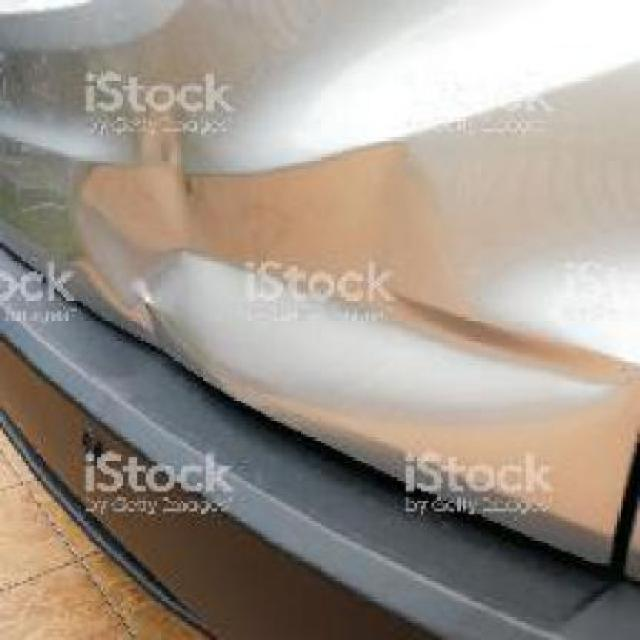dent-or-scratch: (80, 120, 620, 446)
